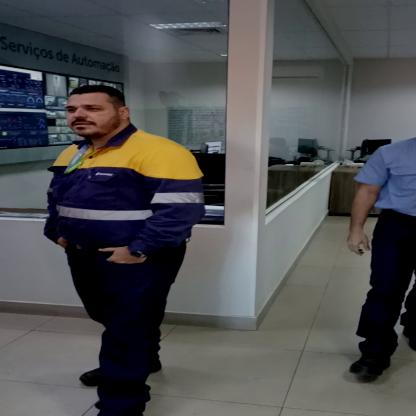Operacional: (38, 140, 226, 254)
